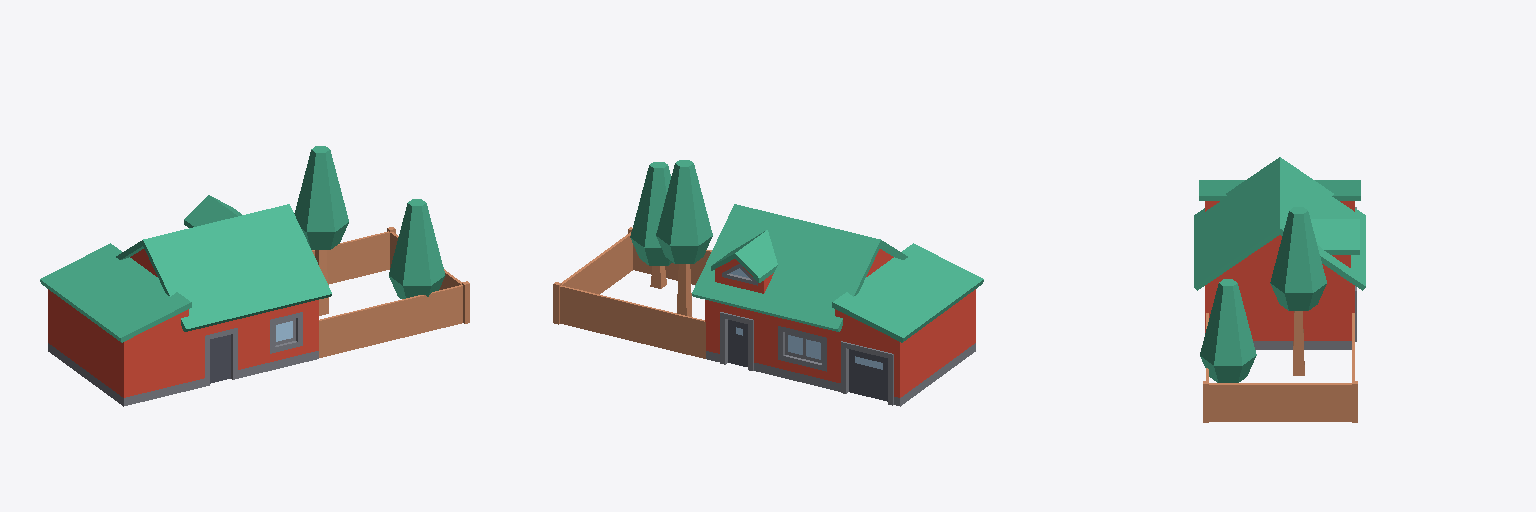
File: city_house_long_c.obj
The picture shows the model from 3 angles: view 1: azimuth 30°, elevation 25°; view 2: azimuth 150°, elevation 25°; view 3: azimuth 270°, elevation 25°; orthographic projection.
Parts seen in each view (by area): view 1: mergedBlocks; view 2: mergedBlocks; view 3: mergedBlocks.
Part boxes in pixels (bbox=[...]): mergedBlocks: bbox=[40, 146, 469, 406]; mergedBlocks: bbox=[553, 160, 983, 406]; mergedBlocks: bbox=[1194, 157, 1365, 422].
Bounding box in the file's own units: 1.73 × 0.767 × 0.7328.